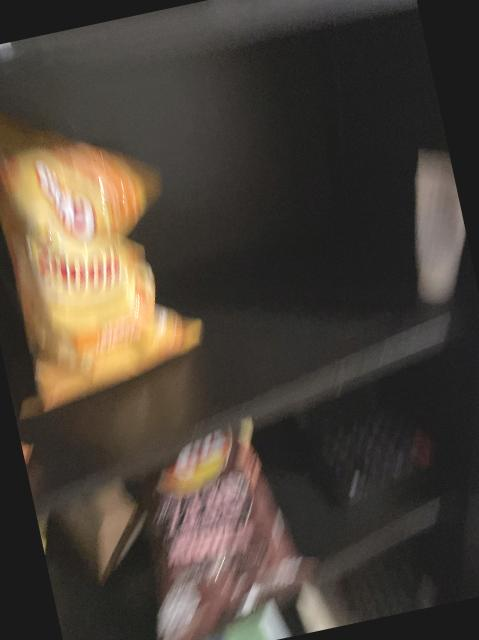Chio Hula Hoops Cheese 70g: (0, 60, 216, 416)
Lays Beef Grilled Ribs 125g: (112, 410, 325, 640)
